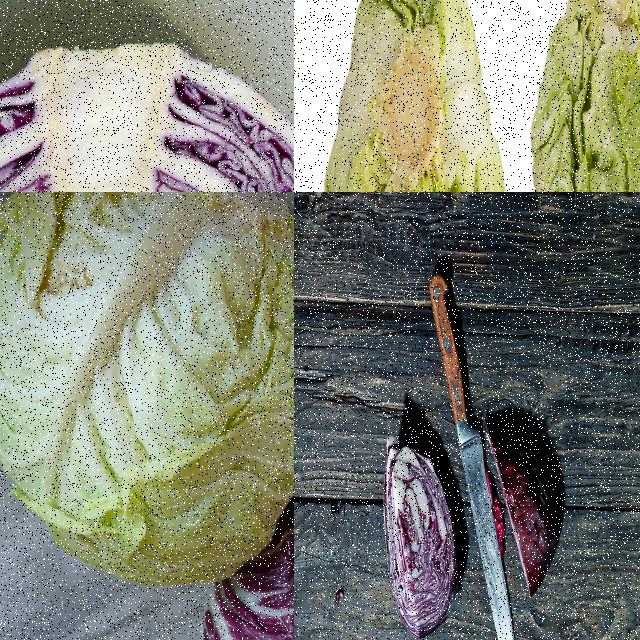cabbage: (0, 192, 293, 594), (0, 38, 293, 191), (319, 0, 510, 191), (529, 0, 639, 191), (382, 439, 456, 639), (486, 412, 558, 596)
